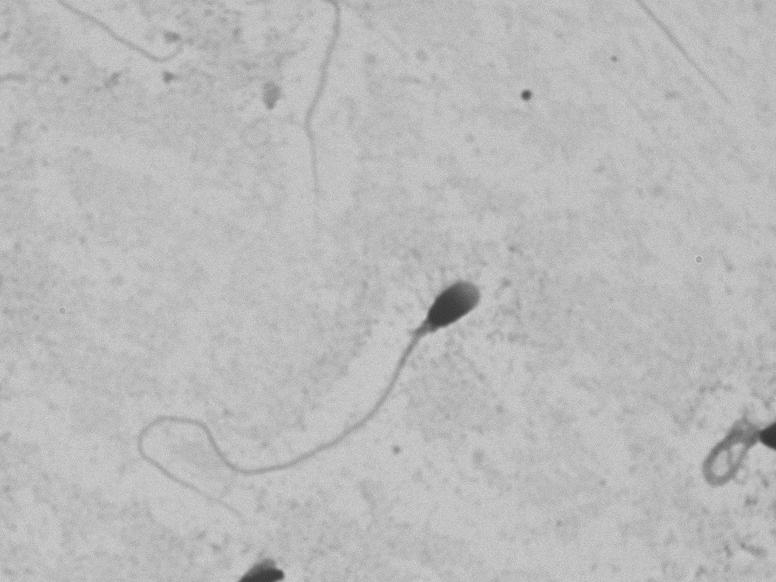Normal: (103, 252, 507, 543)
